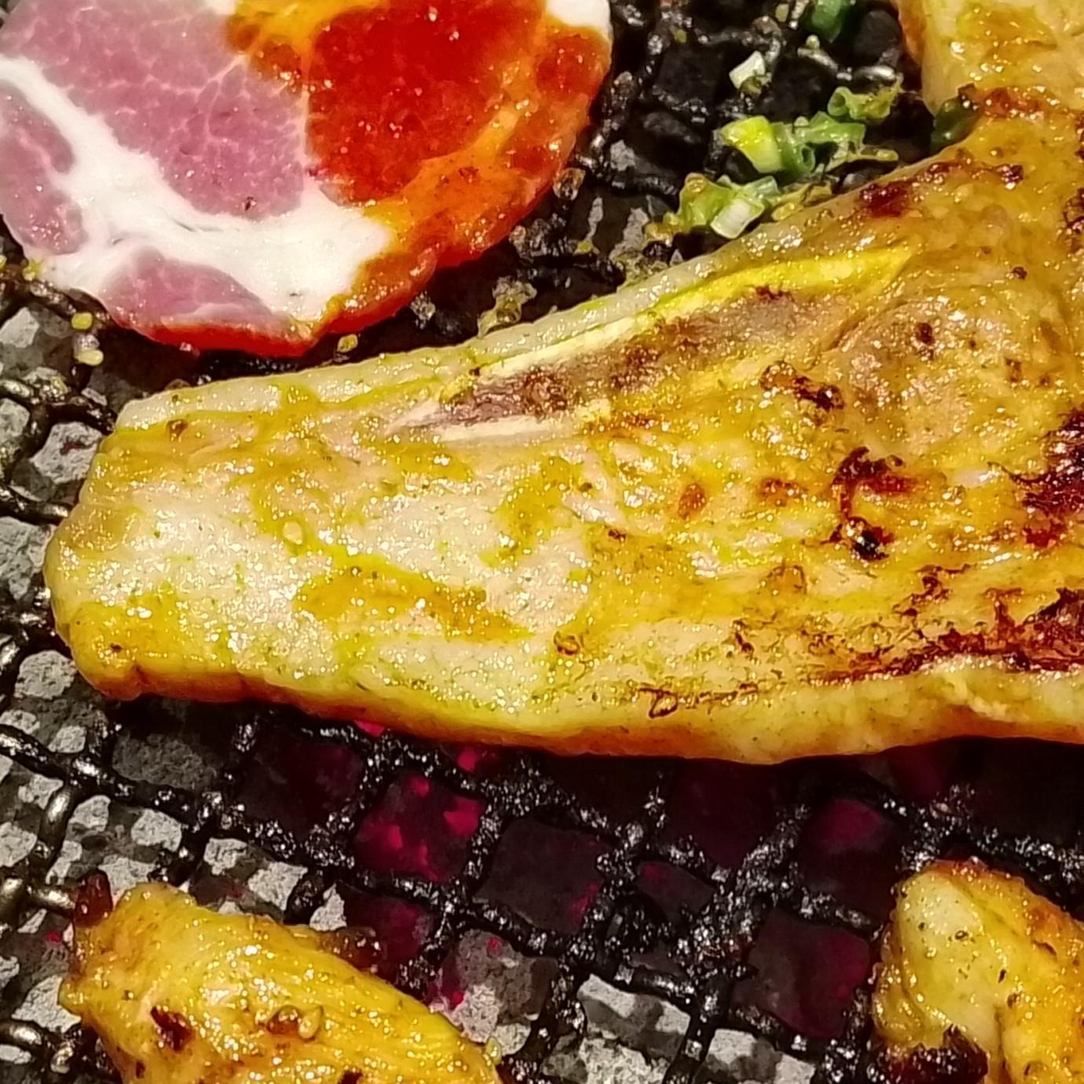Undercooked: (0, 0, 613, 361)
Well-Cooked: (75, 0, 1083, 744), (59, 882, 504, 1083), (866, 863, 1083, 1083)
